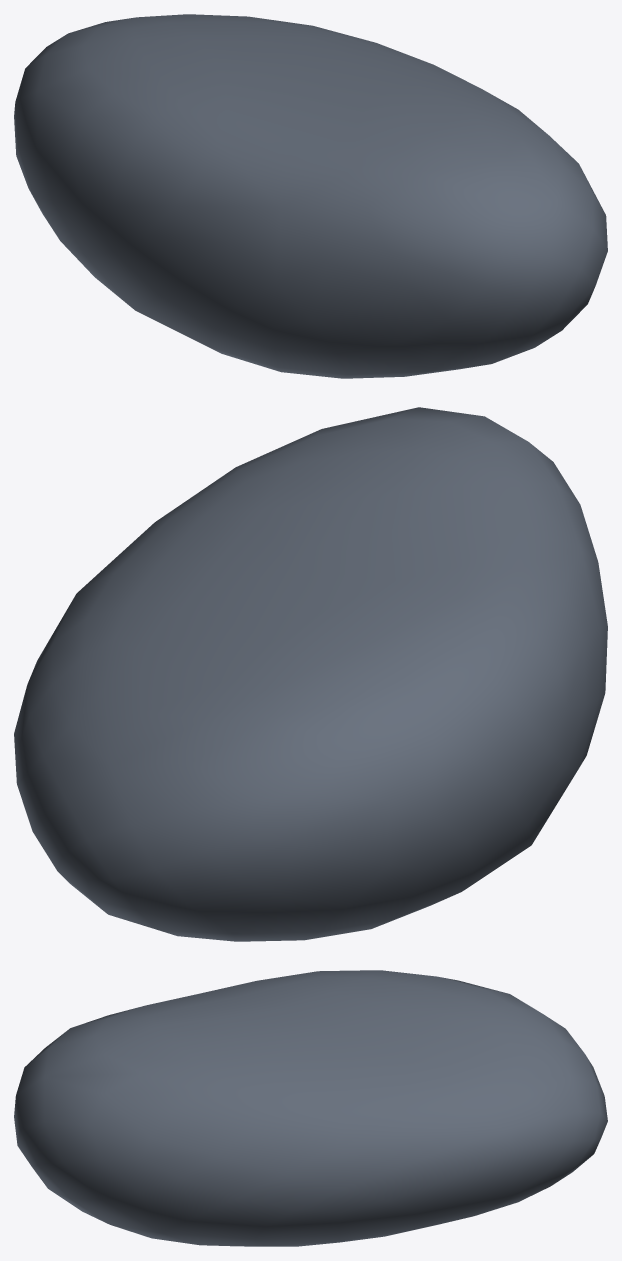
File: RockBig.fbx
The picture shows the model from 3 angles, top to bottom: view 1: azimuth 30°, elevation 25°; view 2: azimuth 150°, elevation 25°; view 3: azimuth 270°, elevation 25°; orthographic projection. The views are drawn at different scales.
Parts seen in each view (by area): view 1: RockBig; view 2: RockBig; view 3: RockBig.
Part boxes in pixels (bbox=[...]): RockBig: bbox=[14, 14, 607, 378]; RockBig: bbox=[14, 407, 607, 941]; RockBig: bbox=[14, 970, 607, 1246].
Size of the model in its own units: 107 by 62.62 by 167.
